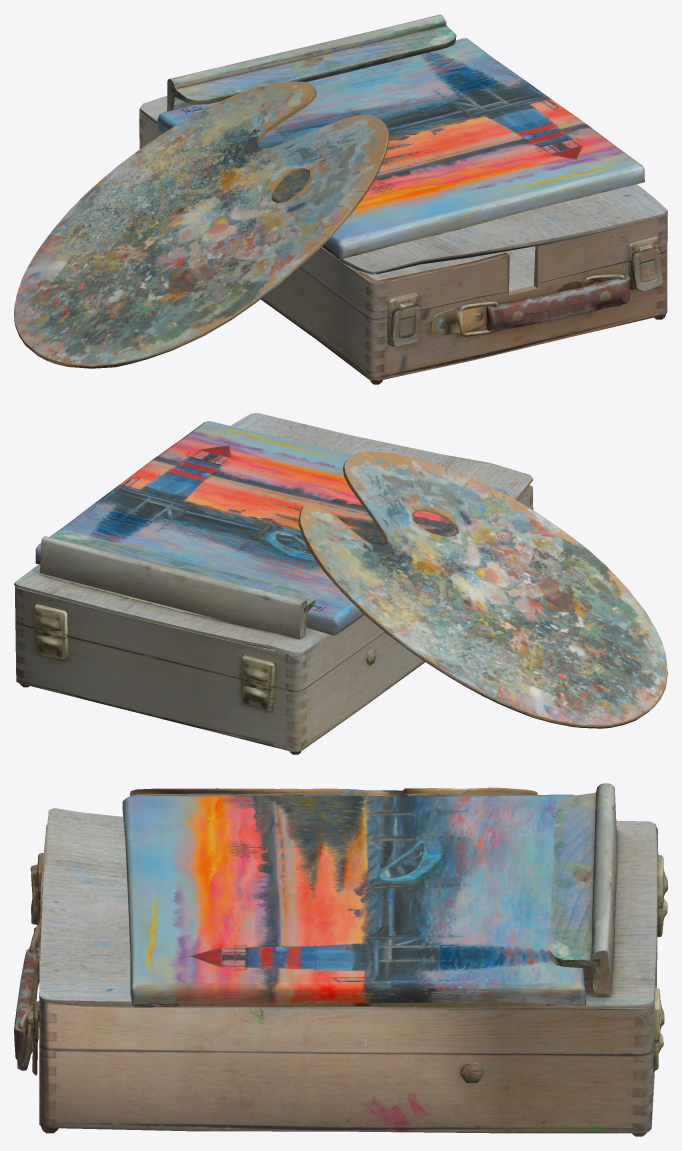
Rendered from Palette.fbx.
3 views of the same model, one above another, from view 1: azimuth 30°, elevation 25°; view 2: azimuth 150°, elevation 25°; view 3: azimuth 270°, elevation 25° (orthographic). The views are drawn at different scales.
Visible parts, largest first — view 1: Palette, Suitcase, Cube.008; view 2: Suitcase, Palette, Cube.008; view 3: Suitcase, Cube.008, Palette.
Boxes of the visible parts, bbox=[...] form: Palette: bbox=[14, 81, 389, 368]; Suitcase: bbox=[139, 14, 667, 384]; Cube.008: bbox=[157, 38, 644, 259]; Suitcase: bbox=[14, 413, 533, 754]; Palette: bbox=[298, 451, 667, 728]; Cube.008: bbox=[35, 421, 507, 635]; Suitcase: bbox=[14, 783, 667, 1136]; Cube.008: bbox=[122, 794, 586, 1007]; Palette: bbox=[130, 787, 537, 796].
Size of the model in its own units: 1285 by 411 by 1075.
